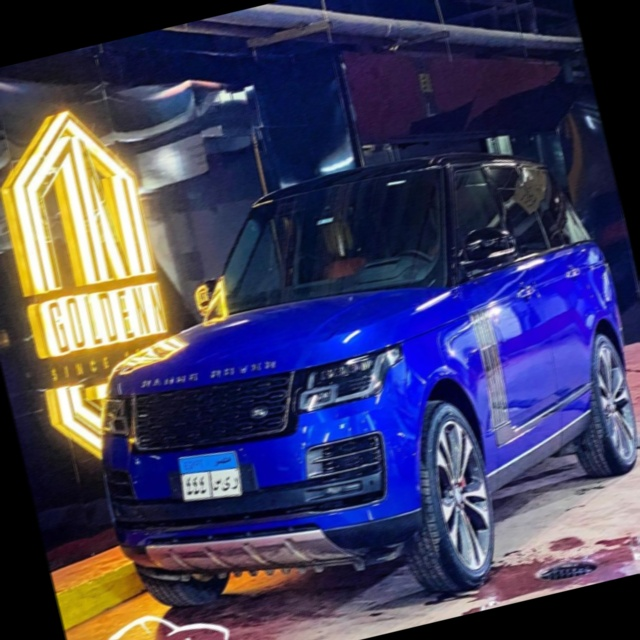License Plate: (172, 442, 249, 511)
